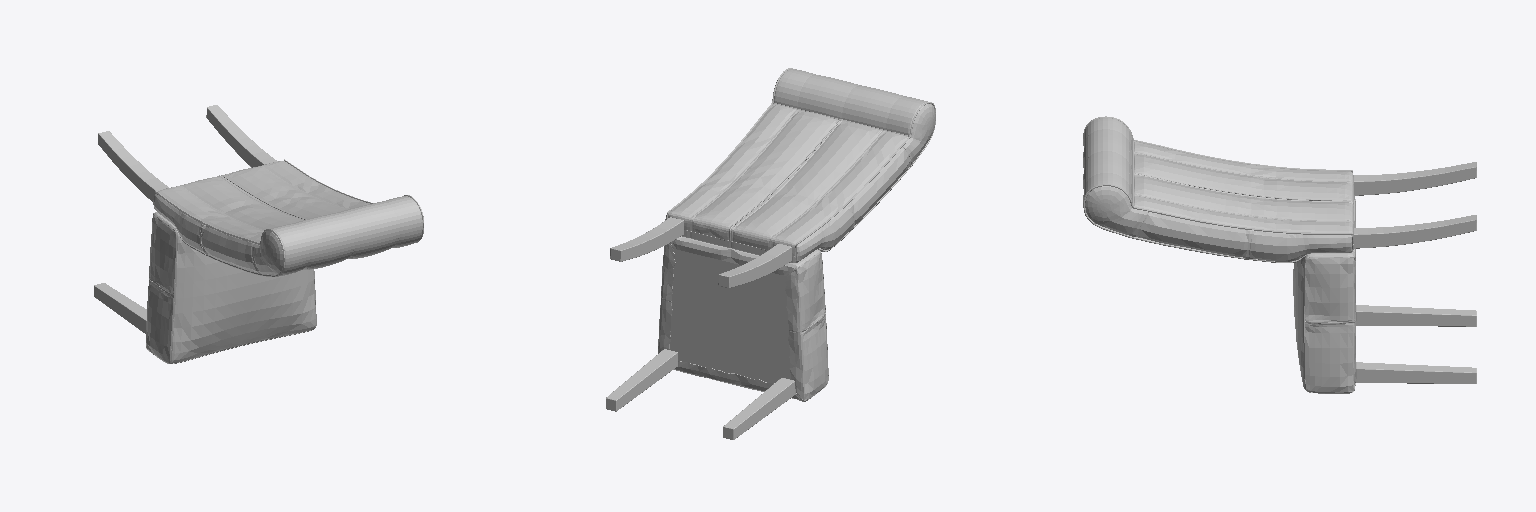
File: dining_chair_02.001.obj
3 views of the same model, side by side, from view 1: azimuth 30°, elevation 25°; view 2: azimuth 150°, elevation 25°; view 3: azimuth 270°, elevation 25° (orthographic).
Visible parts, largest first — view 1: dining_chair_02.001; view 2: dining_chair_02.001; view 3: dining_chair_02.001.
Part boxes in pixels (bbox=[...]): dining_chair_02.001: bbox=[94, 105, 423, 363]; dining_chair_02.001: bbox=[606, 68, 935, 439]; dining_chair_02.001: bbox=[1083, 116, 1476, 393].
Bounding box in the file's own units: 0.4336 × 0.5764 × 0.9734.